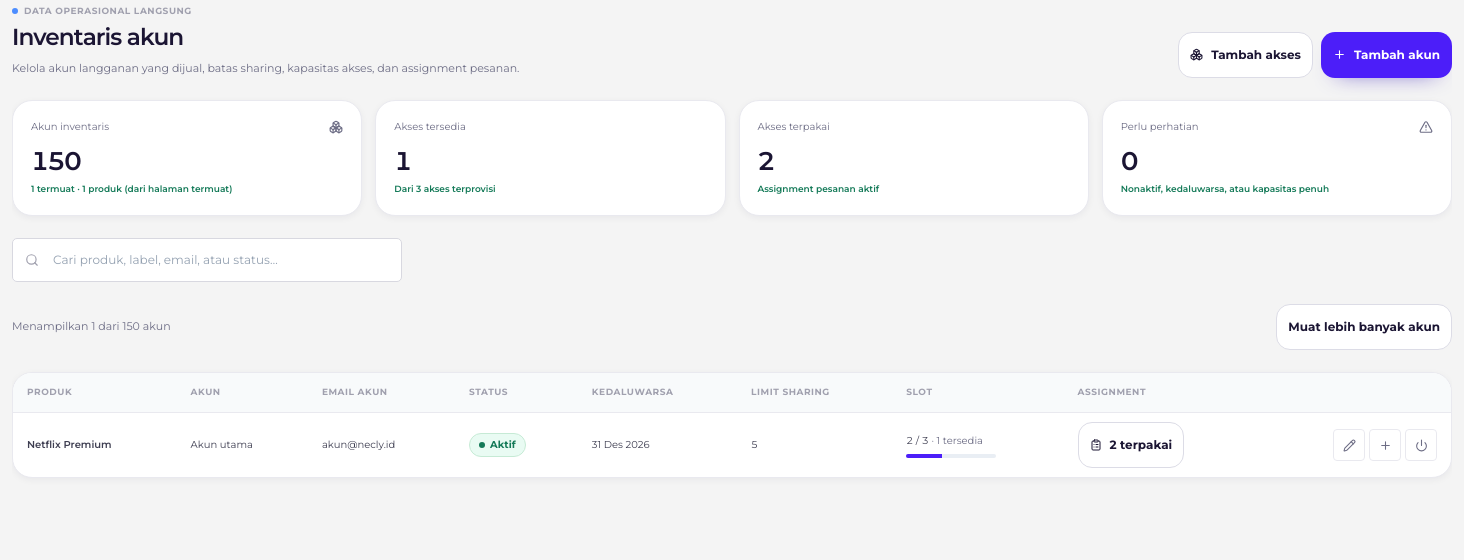
Test: Halaman Inventaris akun › menampilkan jumlah total akun dan memuat halaman akun berikutnya
expect the text "Akun utama" is shown: met, box [177,413,308,477]
expect the text "Menampilkan 1 dari 150 akun" is shown: met, box [12,318,171,336]
Click the button "Muat lebih banyak akun".
click(1364, 327)  # box [1276,304,1452,350]
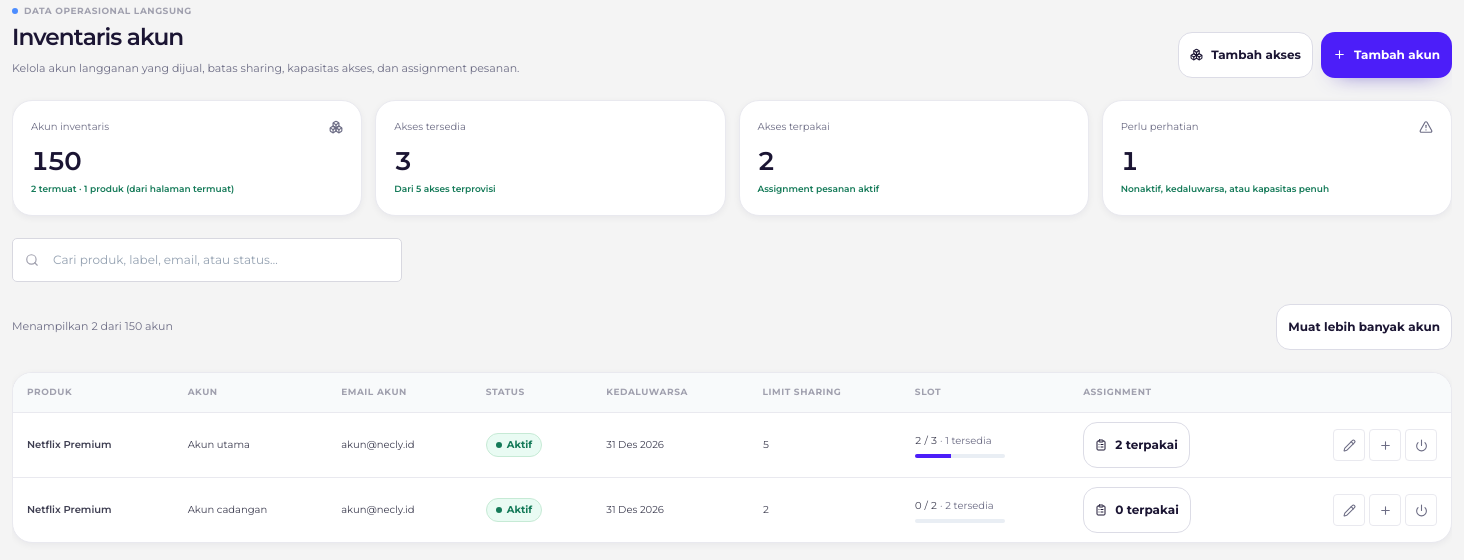
expect the text "Akun cadangan" is shown: met, box [174,478,327,542]
expect the text "Menampilkan 2 dari 150 akun" is shown: met, box [12,318,173,336]
